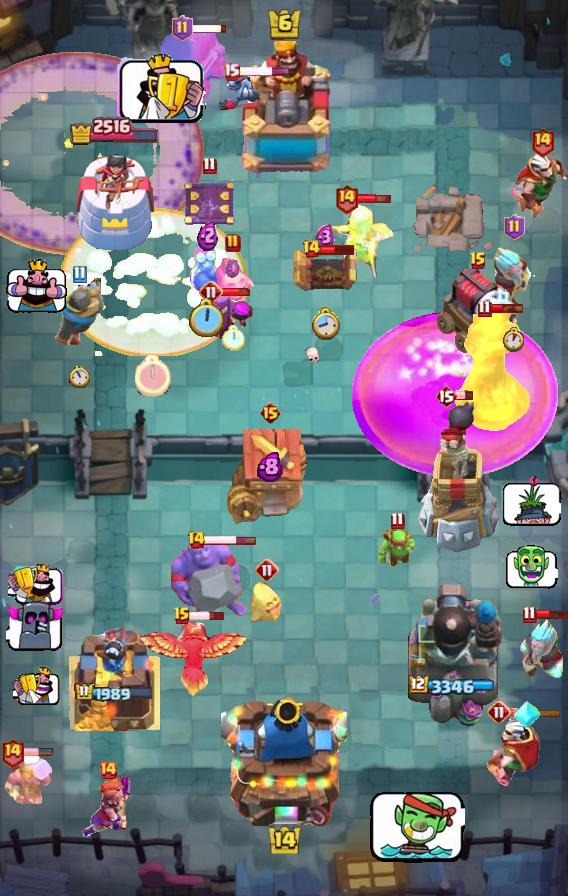archer-queen: (169, 536, 251, 620)
bat-evolution: (249, 582, 285, 624)
electro-dragon: (454, 306, 532, 434)
electro-spirit: (257, 450, 283, 481), (197, 221, 218, 252), (315, 224, 335, 252), (225, 259, 241, 279)
elixir: (189, 298, 226, 340), (135, 355, 171, 397), (310, 305, 340, 339), (502, 327, 526, 352), (223, 325, 246, 351), (69, 364, 91, 388)
emote: (203, 535, 257, 546), (238, 66, 291, 77), (508, 707, 562, 717), (319, 244, 356, 257), (357, 191, 392, 204), (191, 22, 228, 34), (189, 610, 226, 622), (489, 302, 525, 314), (534, 609, 568, 620), (18, 747, 54, 757), (221, 287, 253, 297), (454, 390, 473, 401)
firecracker: (53, 277, 106, 346)
giant-snowball: (377, 525, 417, 569)
goblin-brawler: (289, 246, 361, 294)
golden-knight: (138, 620, 250, 700)
golem: (436, 264, 520, 354)
ice-golem: (189, 244, 225, 296)
ice-spirit-evolution-symbol: (182, 178, 236, 228)
king-tower: (221, 690, 347, 826), (228, 41, 340, 181)
knight-evolution: (351, 310, 558, 477)
mighty-miner: (0, 752, 54, 806)
mirror: (212, 255, 254, 305)
mortar: (488, 245, 540, 309), (517, 618, 567, 682)
pad_2: (512, 700, 542, 730)
phoenix-big: (59, 208, 247, 356)
poison: (325, 204, 397, 280)
queen-tower: (68, 627, 160, 731), (71, 144, 157, 255)
rascal-girl: (194, 288, 256, 346)
rocket: (0, 51, 204, 255)
royal-delivery: (219, 73, 263, 111)
royal-giant-evolution: (161, 28, 229, 102)
selected: (68, 114, 160, 145), (409, 675, 497, 697), (74, 682, 154, 704)
skeleton: (369, 787, 465, 865), (114, 54, 206, 126), (5, 258, 66, 313), (501, 474, 561, 527), (6, 600, 66, 653), (8, 563, 64, 606), (506, 545, 559, 589), (12, 667, 59, 705)
skeleton-king: (482, 708, 542, 794), (502, 152, 568, 222)
sparky: (227, 428, 313, 526)
tesla-evolution: (80, 773, 136, 839)
text: (529, 126, 554, 157), (334, 182, 359, 213), (0, 737, 24, 768), (199, 280, 223, 304), (255, 558, 279, 582), (487, 700, 511, 724), (258, 401, 281, 425), (172, 15, 193, 41), (504, 214, 525, 240), (435, 384, 457, 408), (98, 760, 118, 780), (303, 239, 322, 259), (186, 530, 205, 550), (469, 251, 487, 271), (173, 606, 191, 626), (225, 233, 241, 253), (224, 63, 241, 81), (202, 157, 217, 175), (477, 299, 492, 317), (390, 511, 405, 529), (523, 605, 538, 623), (73, 265, 87, 284)
tower-bar: (402, 579, 504, 731)
zappy: (414, 396, 501, 554)
